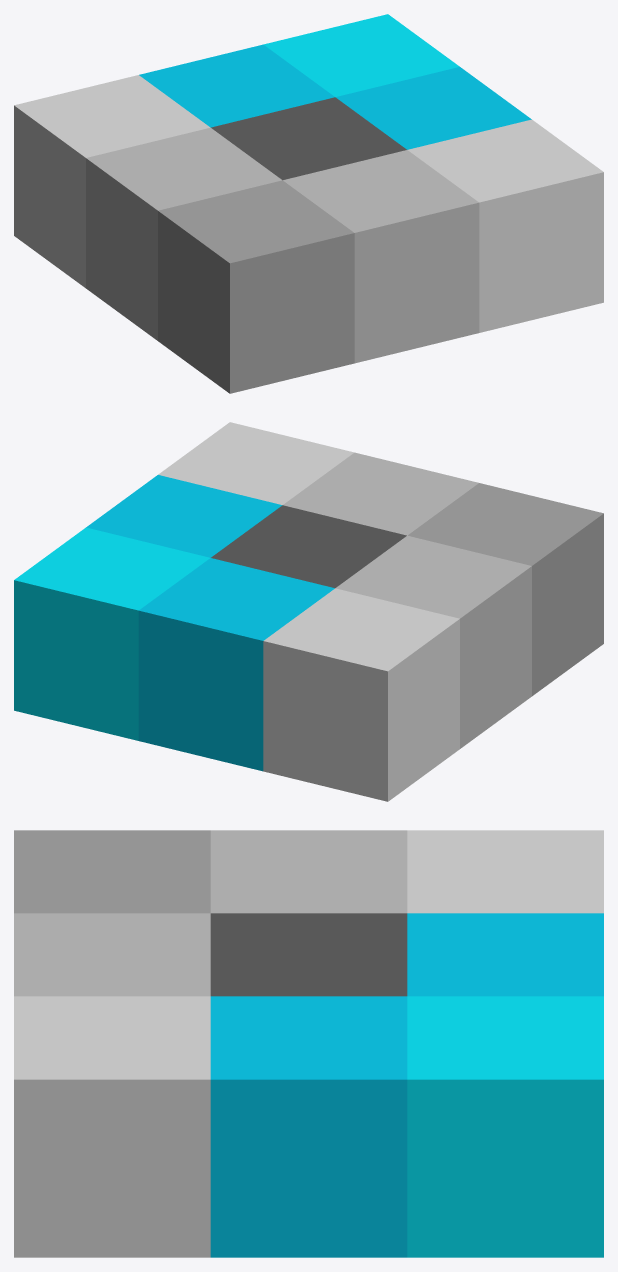
The model's file is Ring 2.fbx.
The picture shows the model from 3 angles, top to bottom: view 1: azimuth 30°, elevation 25°; view 2: azimuth 150°, elevation 25°; view 3: azimuth 270°, elevation 25°; orthographic projection. The views are drawn at different scales.
Visible parts, largest first — view 1: Ring 2; view 2: Ring 2; view 3: Ring 2.
Part boxes in pixels (x1,y1,x2,y2): Ring 2: [14, 14, 603, 393]; Ring 2: [14, 422, 603, 801]; Ring 2: [14, 830, 603, 1257].
Bounding box in the file's own units: 30 × 10 × 30.
